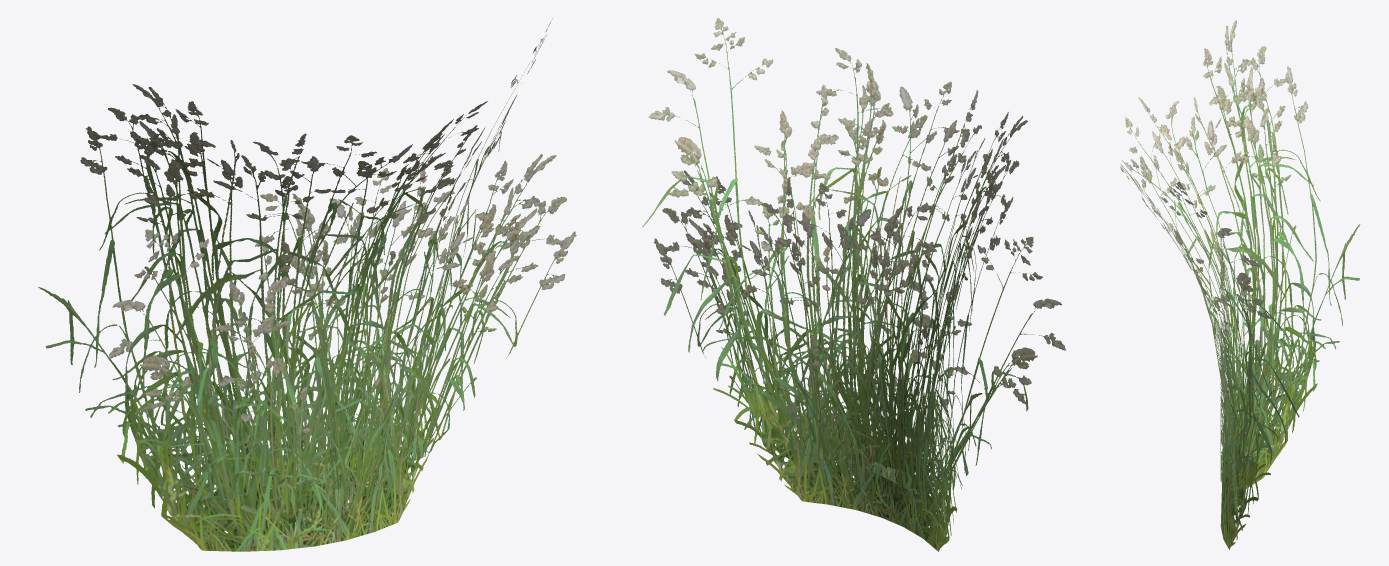
Rendered from grass.glb.
3 renders of one model, left to right at view 1: azimuth 30°, elevation 25°; view 2: azimuth 150°, elevation 25°; view 3: azimuth 270°, elevation 25°, orthographic. The views are drawn at different scales.
Parts seen in each view (by area): view 1: grass-tuft-foliage; view 2: grass-tuft-foliage; view 3: grass-tuft-foliage.
Boxes of the visible parts, x1,y1,x2,y2 form: grass-tuft-foliage: [38, 18, 576, 551]; grass-tuft-foliage: [642, 18, 1066, 551]; grass-tuft-foliage: [1120, 20, 1360, 549].
Bounding box in the file's own units: 1.06 × 1 × 0.5641.
1 material, 1 textured.
